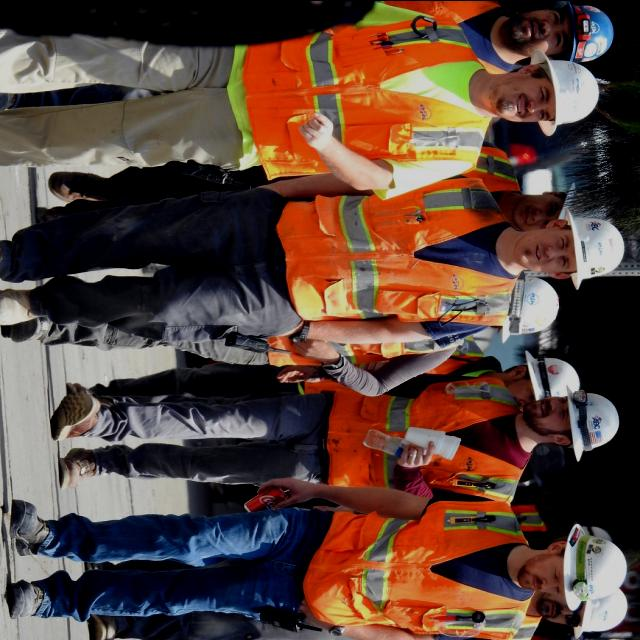Boots: (46, 386, 116, 499), (0, 495, 60, 623), (25, 167, 118, 244), (0, 229, 47, 322), (80, 554, 130, 640), (0, 303, 65, 348)
Hard Hat: (530, 48, 602, 136), (560, 520, 628, 608), (564, 210, 628, 294), (567, 386, 625, 465), (546, 0, 616, 64), (502, 273, 562, 343), (522, 349, 586, 405), (570, 582, 632, 638), (556, 180, 616, 228)
Reflective Vest: (223, 19, 497, 168), (279, 163, 523, 327), (296, 502, 540, 638), (316, 356, 526, 509), (266, 297, 480, 376), (383, 0, 517, 82), (465, 140, 526, 238), (424, 324, 504, 388)
Safety Glasses: (561, 606, 581, 630)
